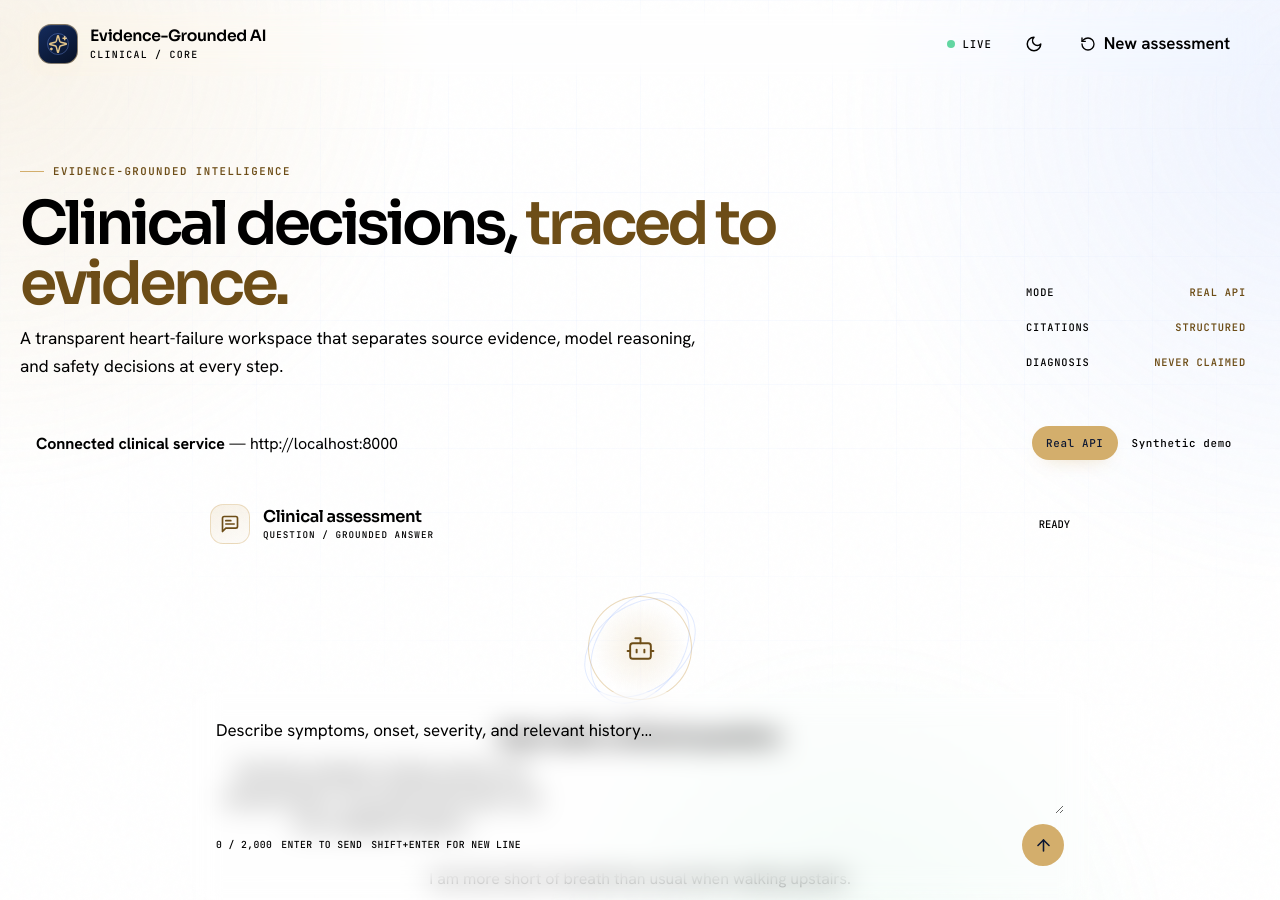
Test: App clinical assessment flow › presents a deliberate refusal without inventing risk or action controls
The width and height of the screenshot is (1280, 900).
Expected: the message named "System status: LIVE" is shown, [946,37,992,51]
Click the button "Synthetic demo": (1182, 443) [1118,426,1246,460]
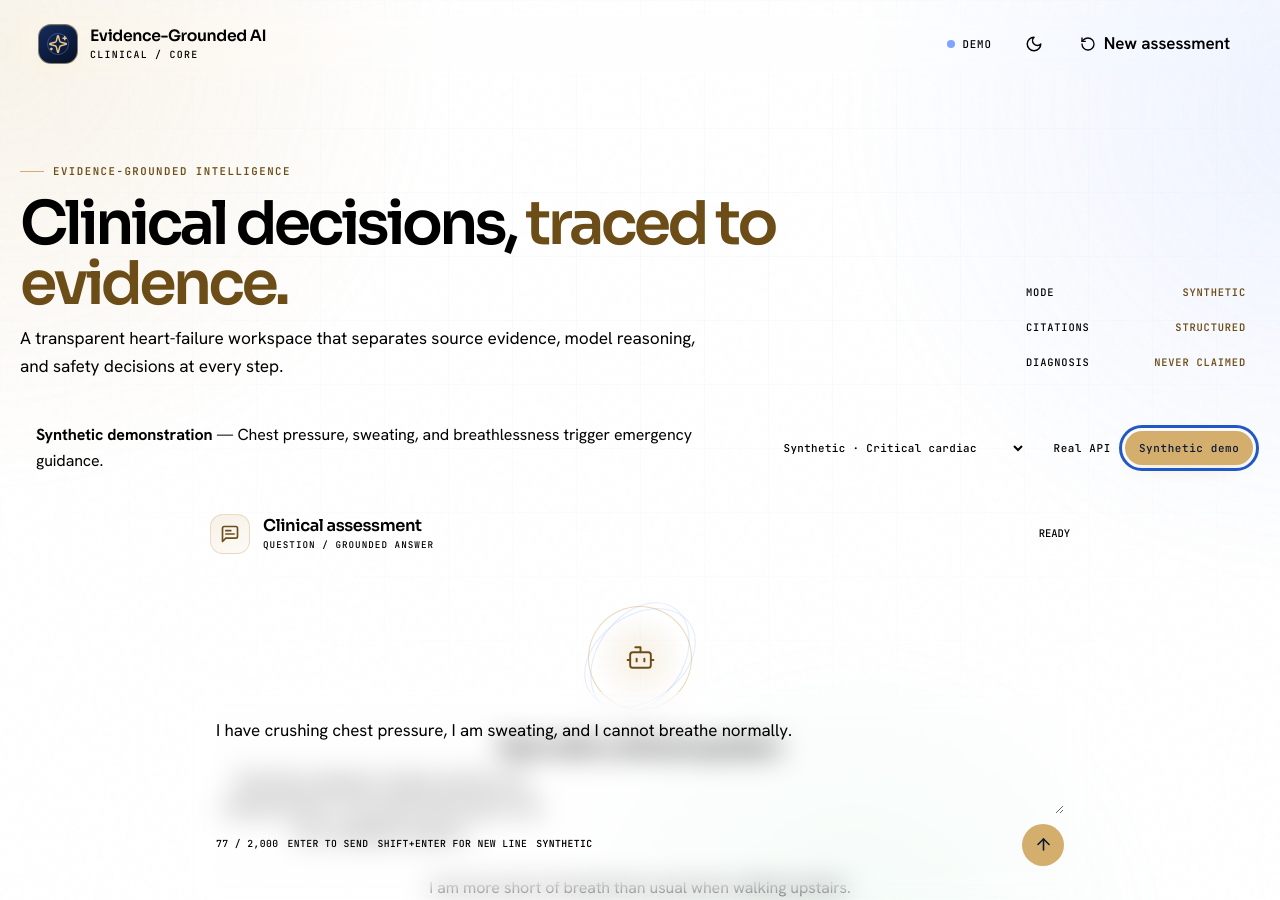
Now the message named "System status: DEMO" is shown, box [946,37,992,51]
Select "Synthetic · Safe refusal" in the dropdown named "Demo scenario": (896, 448) [766,427,1026,469]
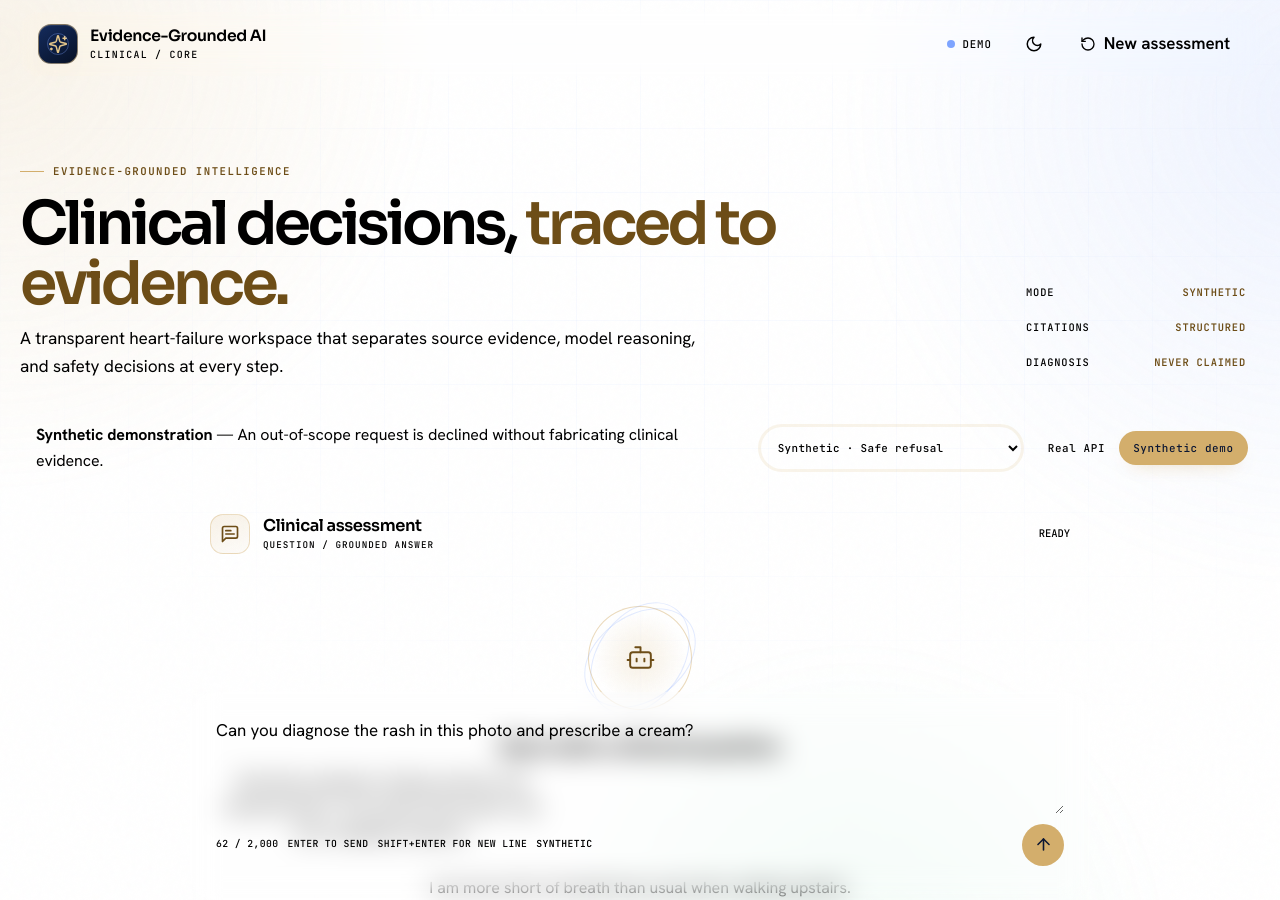
Click the button named "Submit clinical question": (1043, 845) [1022,824,1064,866]
(page scrolled)
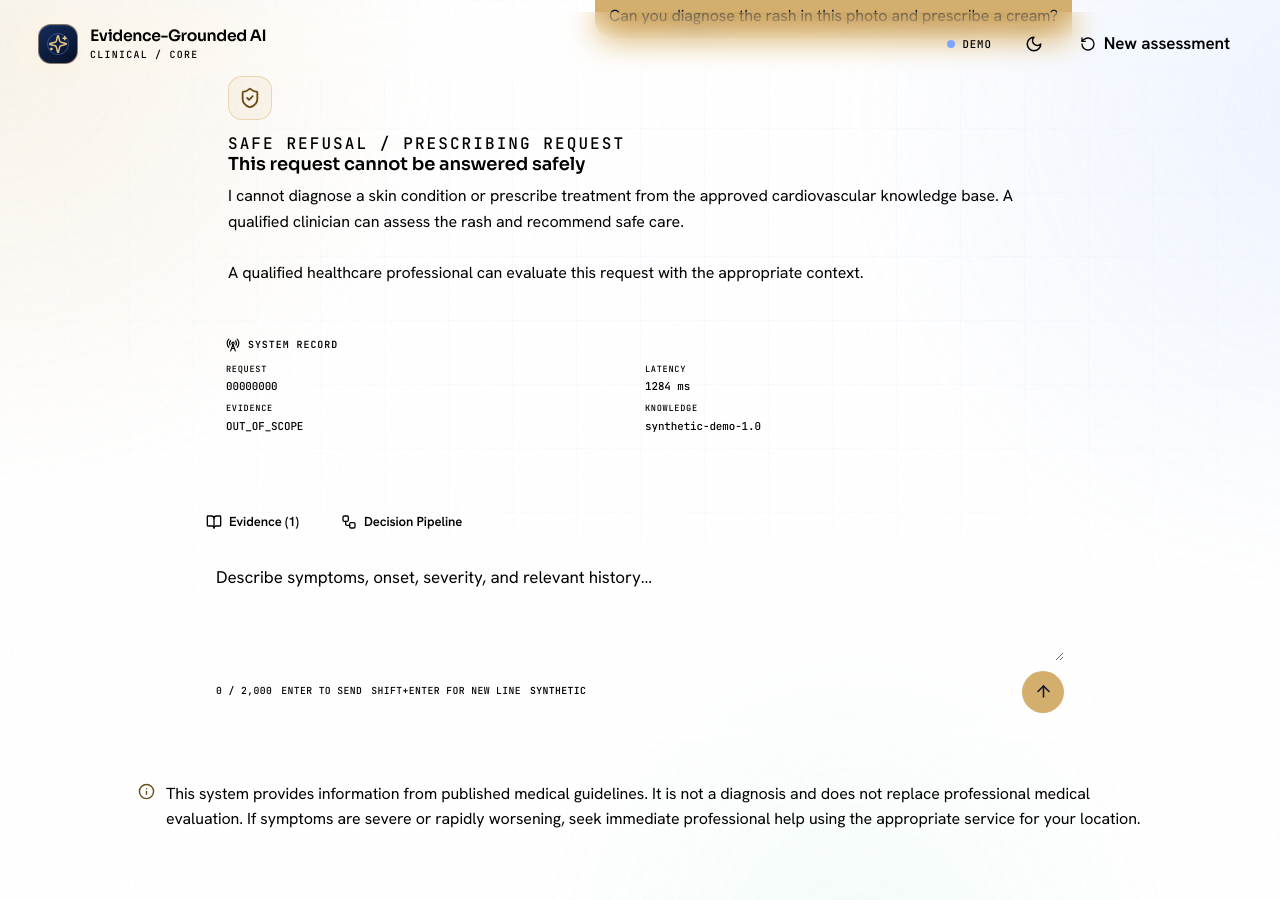
Now the heading "This request cannot be answered safely" is shown, box [228,153,585,175]
Now the text "cannot diagnose a skin condition or prescribe treatment" is shown, box [228,185,1013,232]
Now the text "qualified healthcare professional" is shown, box [228,262,864,283]
Click the button "Evidence (1)": (252, 522) [190,505,315,539]
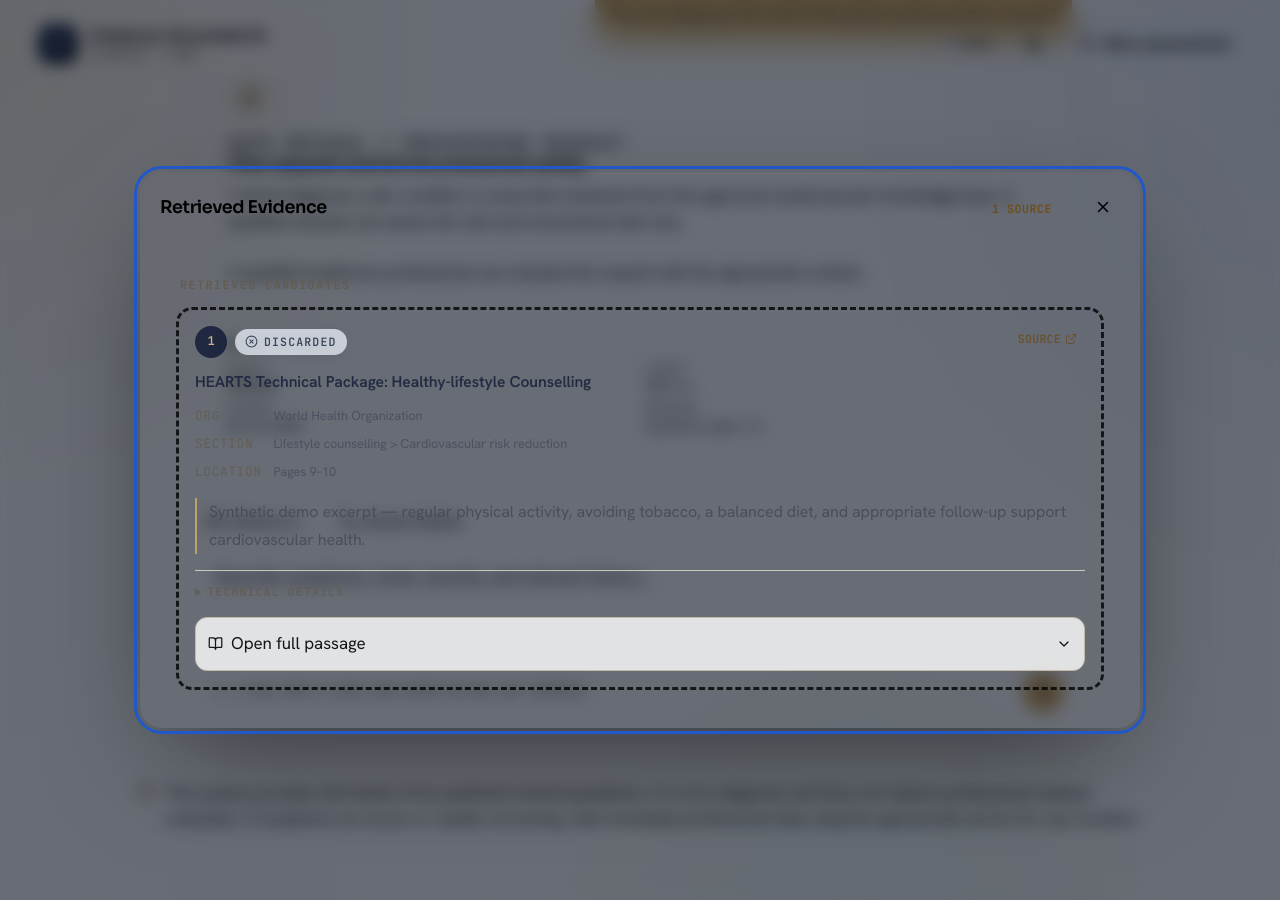
Now the element named "Evidence 1: discarded" is shown, box [176,307,1104,690]
